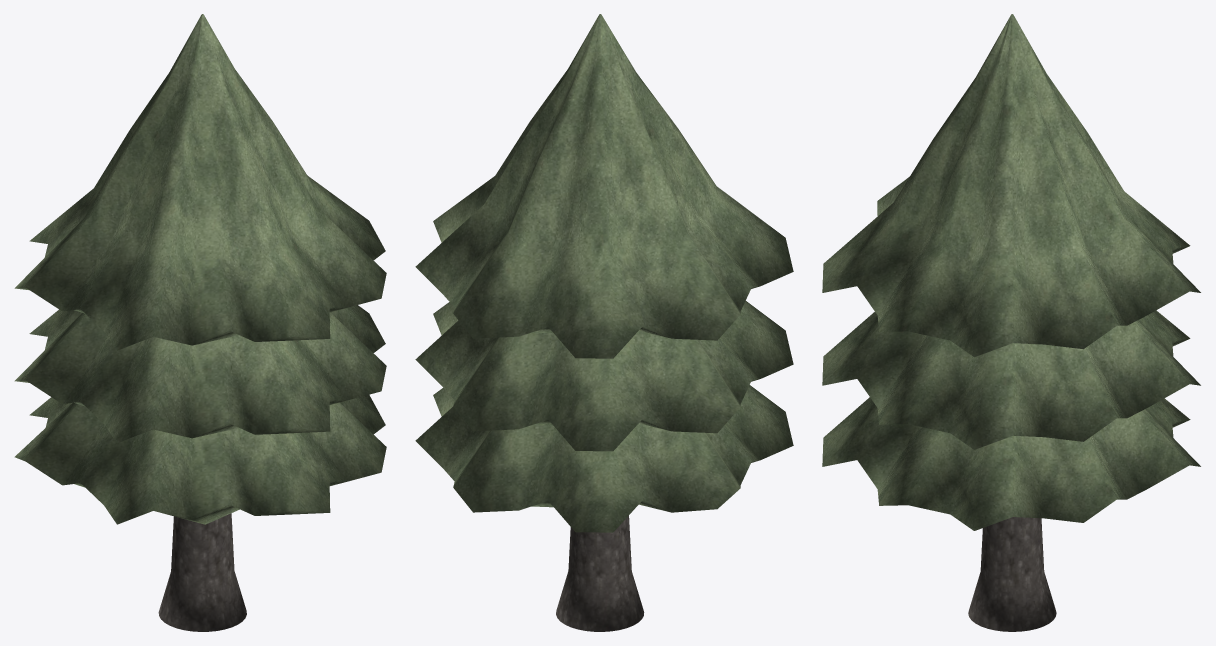
File: FirTreeDead.glb
3 views of the same model, side by side, from view 1: azimuth 30°, elevation 25°; view 2: azimuth 150°, elevation 25°; view 3: azimuth 270°, elevation 25° (orthographic).
Visible parts, largest first — view 1: FirTreeTexturedDead; view 2: FirTreeTexturedDead; view 3: FirTreeTexturedDead.
Part boxes in pixels (x1,y1,x2,y2): FirTreeTexturedDead: (14,14,386,631); FirTreeTexturedDead: (415,14,793,631); FirTreeTexturedDead: (822,14,1200,631).
Size of the model in its own units: 2.59 by 4.56 by 2.62.
Materials: 2 (2 with a texture image).
